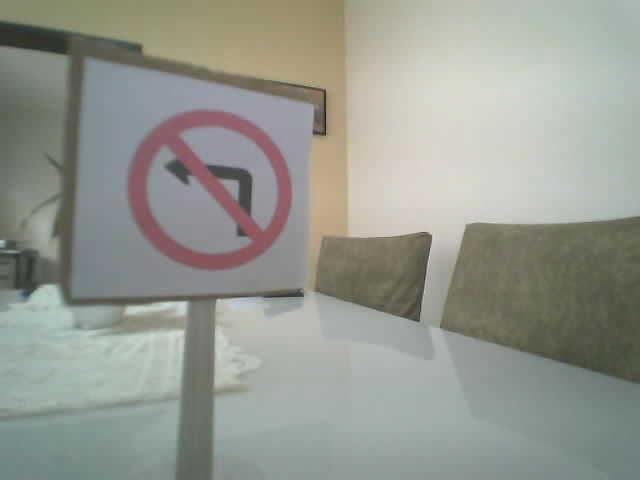R-4a_proibido-esquerda: (126, 107, 291, 271)
